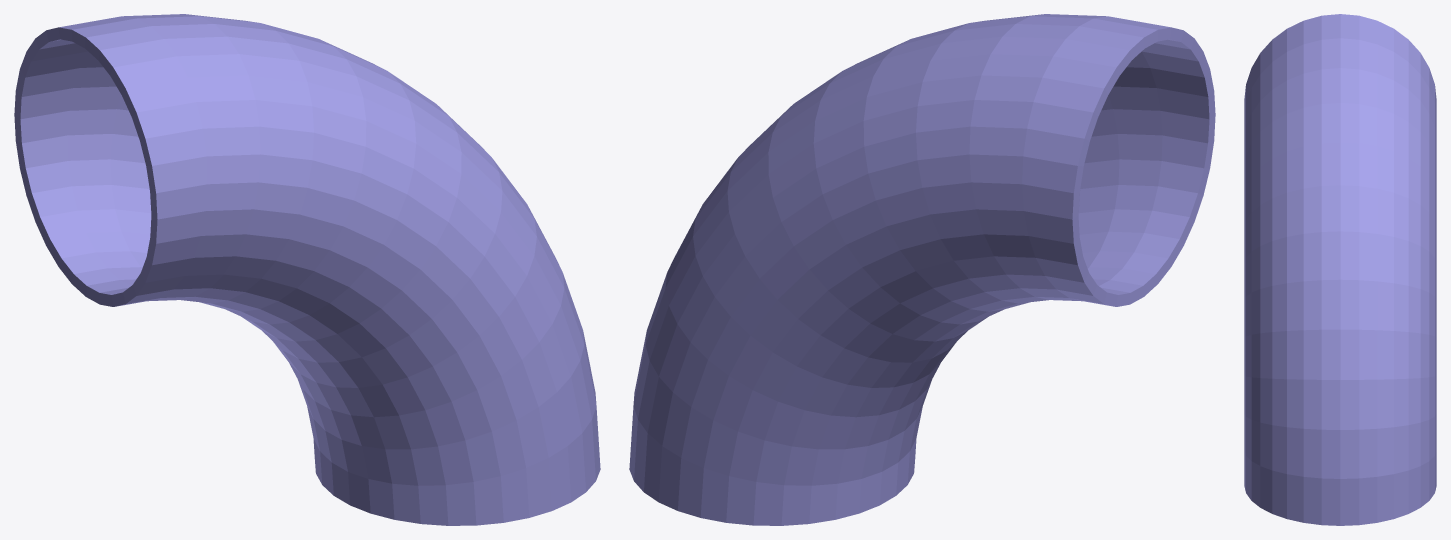
File: Codo.fbx
3 views of the same model, side by side, from view 1: azimuth 30°, elevation 25°; view 2: azimuth 150°, elevation 25°; view 3: azimuth 270°, elevation 25° (orthographic). The views are drawn at different scales.
Visible parts, largest first — view 1: Codo; view 2: Codo; view 3: Codo.
Part boxes in pixels (<box>): Codo: <box>14,14,600,525</box>; Codo: <box>629,14,1215,525</box>; Codo: <box>1244,14,1436,525</box>.
Bounding box in the file's own units: 0.4705 × 0.4706 × 0.2349.
